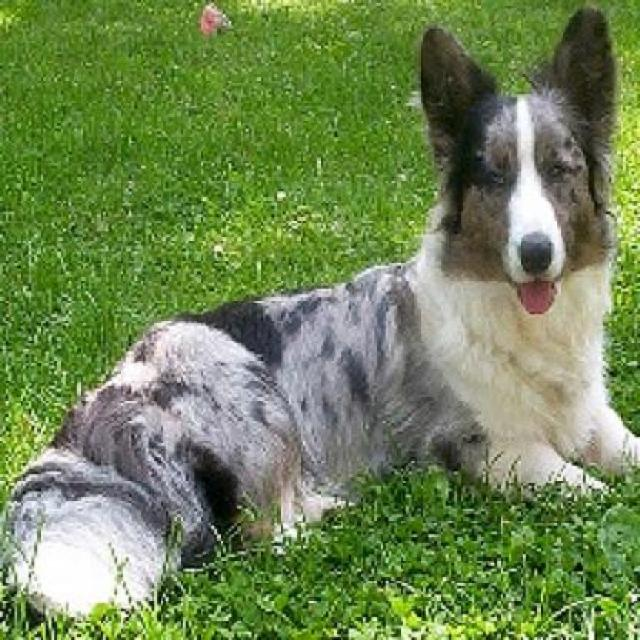Dog: (8, 9, 630, 602)
